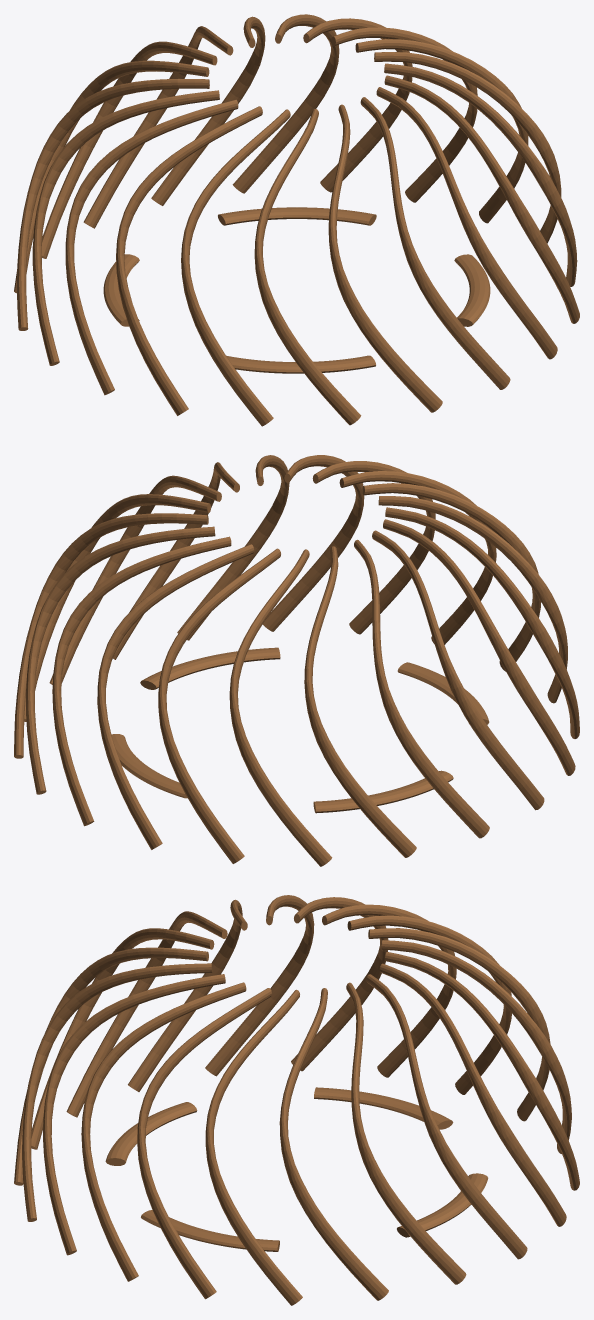
Rendered from canopy--timber.glb.
3 views of the same model, one above another, from view 1: azimuth 30°, elevation 25°; view 2: azimuth 150°, elevation 25°; view 3: azimuth 270°, elevation 25° (orthographic).
Parts seen in each view (by area): view 1: canopy; view 2: canopy; view 3: canopy.
Part boxes in pixels (left/top/right/bottom): canopy: left=14, top=14, right=579, bottom=426; canopy: left=14, top=455, right=579, bottom=866; canopy: left=14, top=895, right=579, bottom=1305.
Size of the model in its own units: 7.41 by 3.42 by 7.41.
